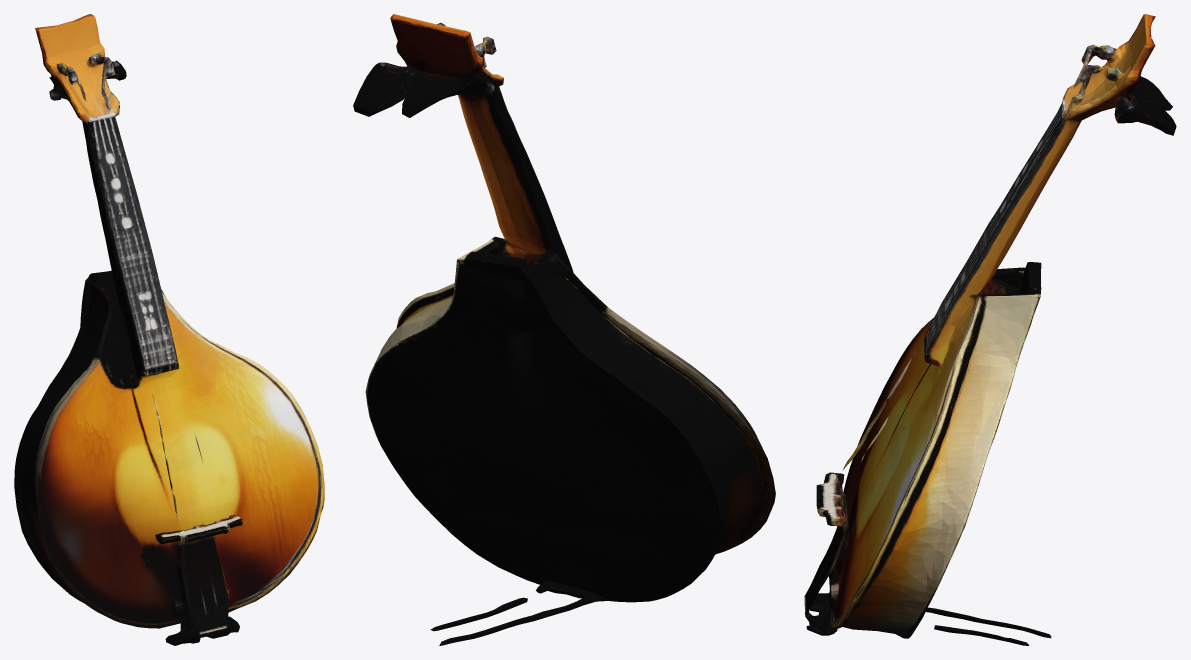
The model's file is gourd-banjo-vintage.jpeg.glb.
3 views of the same model, side by side, from view 1: azimuth 30°, elevation 25°; view 2: azimuth 150°, elevation 25°; view 3: azimuth 270°, elevation 25° (orthographic). The views are drawn at different scales.
Parts seen in each view (by area): view 1: world; view 2: world; view 3: world.
Boxes of the visible parts, bbox=[...] form: world: bbox=[14, 14, 324, 645]; world: bbox=[353, 14, 775, 645]; world: bbox=[804, 14, 1176, 645].
Bounding box in the file's own units: 0.5765 × 1 × 0.5721.
Materials: 1 (1 with a texture image).
